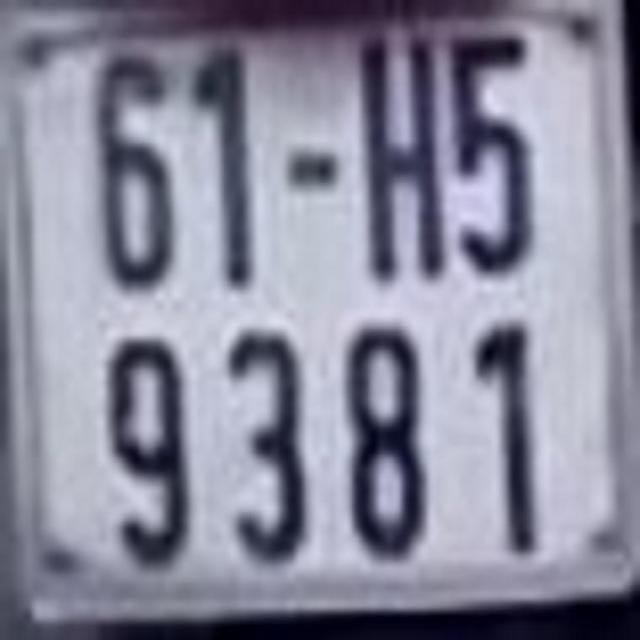1: (471, 312, 556, 557), (186, 41, 266, 289)
3: (220, 320, 310, 562)
5: (452, 29, 542, 286)
6: (89, 55, 180, 292)
8: (338, 320, 436, 558)
9: (99, 332, 192, 572)
H: (354, 25, 449, 280)
